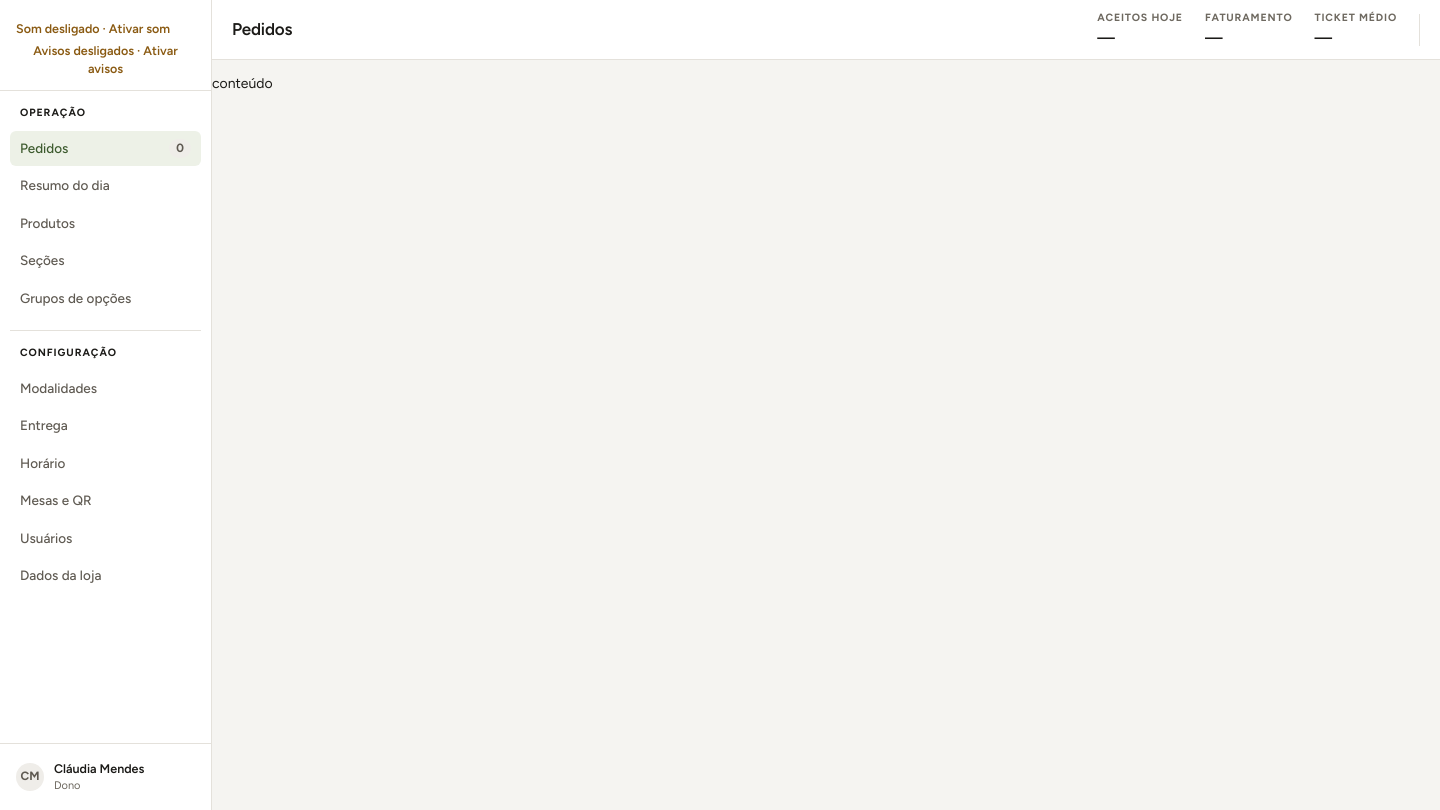
Test: aviso de pedido novo › sem permissão decidida, oferece ativar os avisos; aceitar tira o botão
The width and height of the screenshot is (1440, 810).
Step 1. Click the button "Avisos desligados · Ativar avisos" → (106, 60), box top-left (16, 42), bottom-right (195, 78)
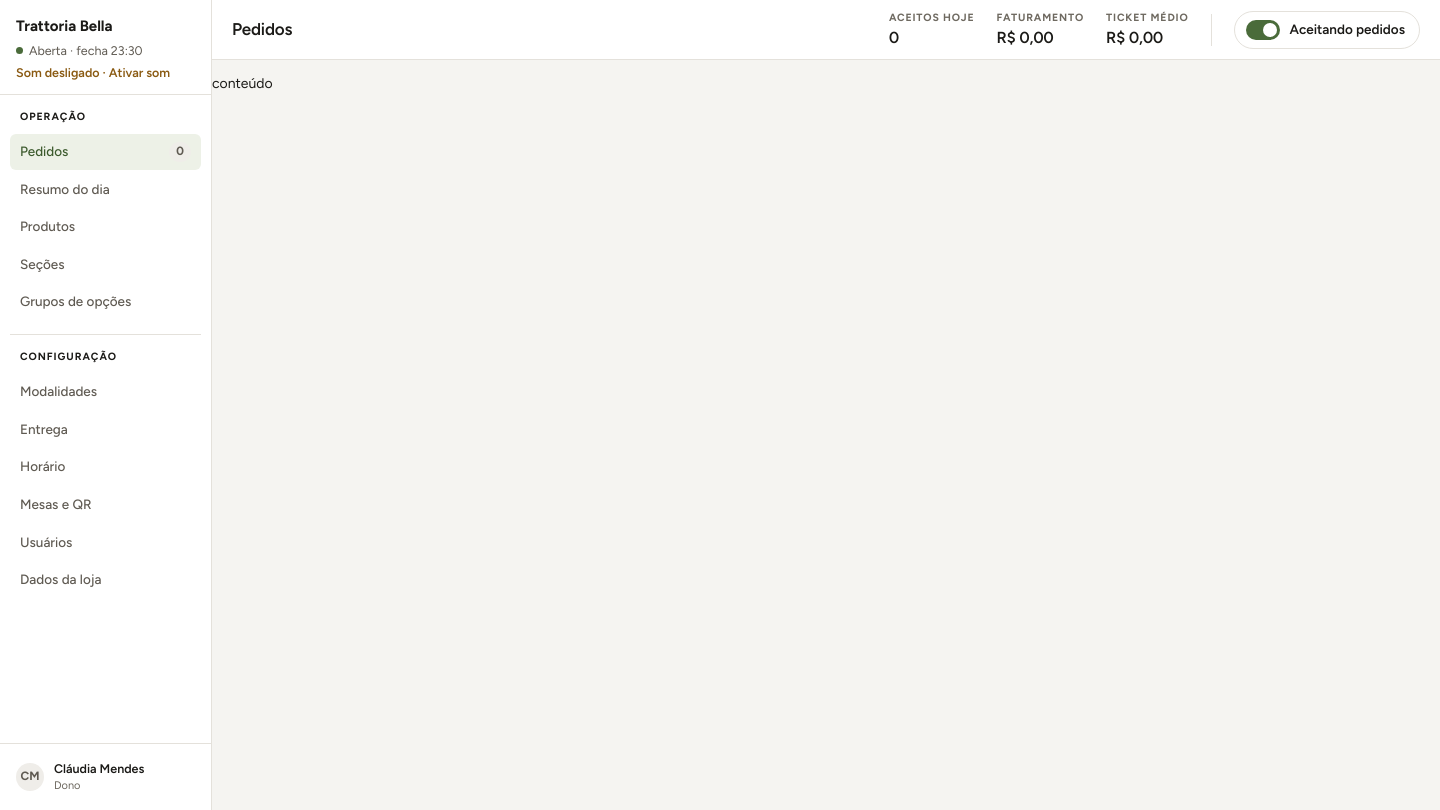
Check: the button "Avisos desligados · Ativar avisos" is gone
